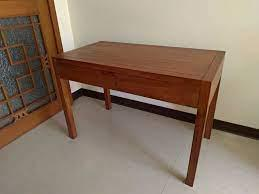desk: (50, 22, 232, 152)
